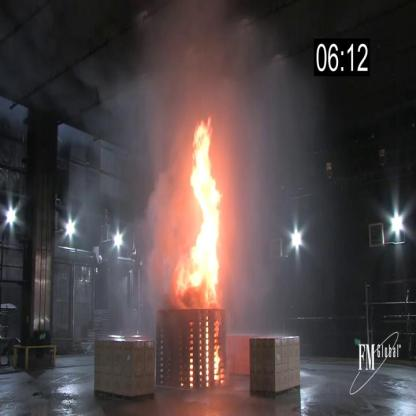fire: (171, 114, 222, 308), (212, 345, 220, 375)
